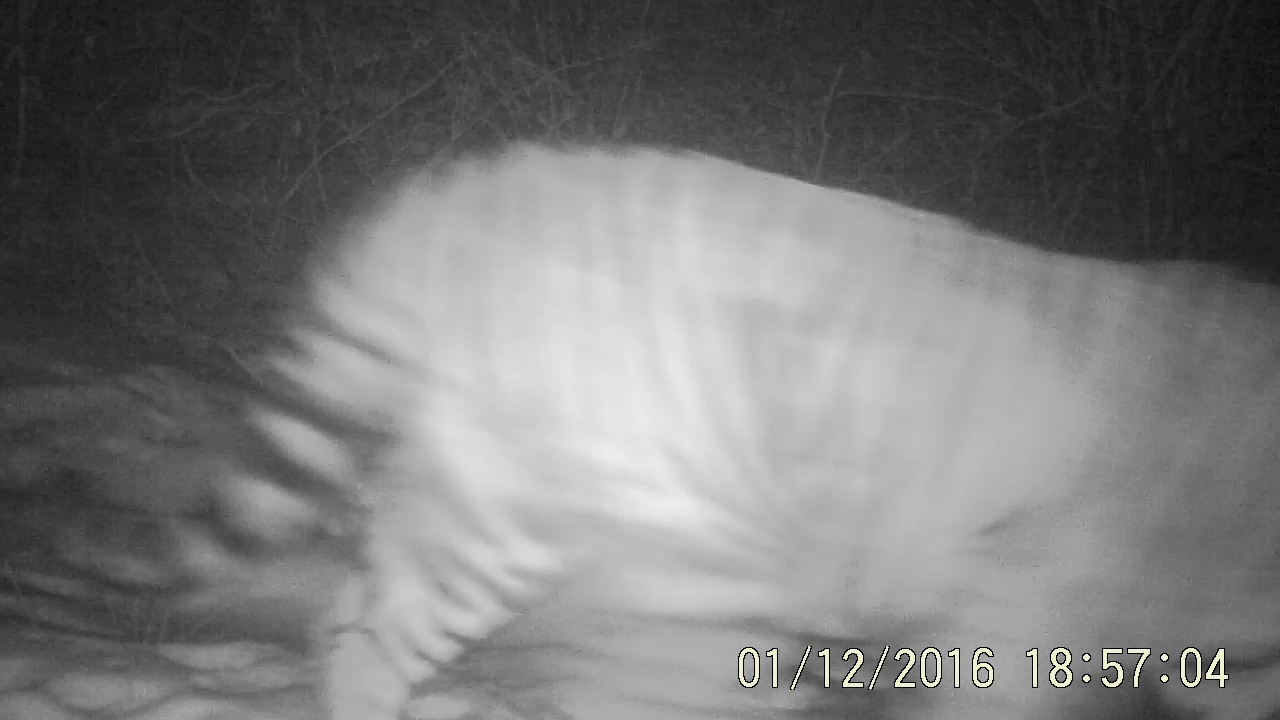Tiger: (55, 9, 1280, 639)
